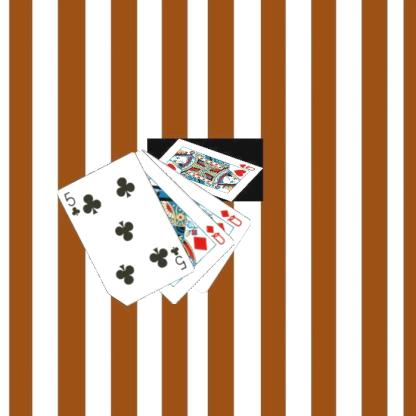5C: (167, 244, 188, 272), (61, 189, 82, 217)
QD: (218, 207, 244, 228), (204, 222, 226, 246)
